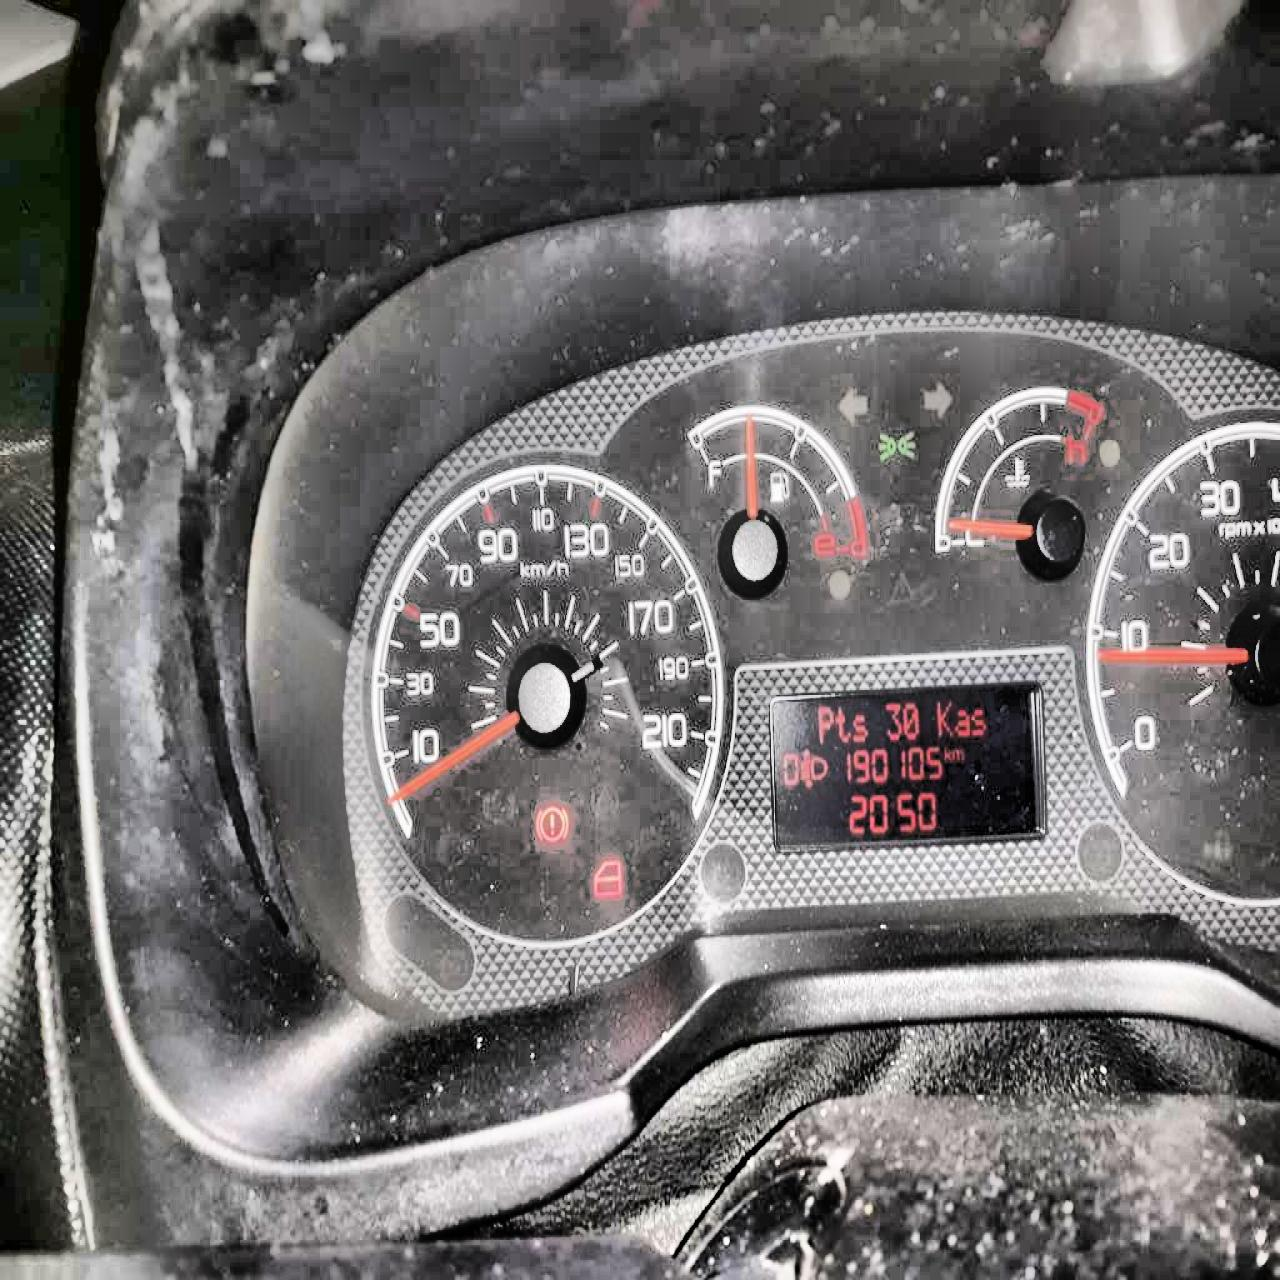0: (867, 791, 887, 833), (915, 791, 937, 830), (901, 700, 920, 742), (870, 747, 888, 783), (906, 745, 924, 779), (782, 750, 798, 785)
1: (844, 750, 851, 782), (899, 747, 905, 781)
2: (847, 791, 866, 833)
3: (884, 700, 901, 742)
5: (896, 790, 915, 832), (925, 743, 941, 778)
9: (852, 749, 869, 783)
X: (935, 696, 954, 736), (817, 704, 833, 743), (835, 703, 850, 743), (955, 706, 971, 737), (971, 706, 986, 737), (851, 710, 867, 740), (942, 743, 952, 762), (953, 745, 965, 760)
odometer: (764, 670, 1055, 860)
